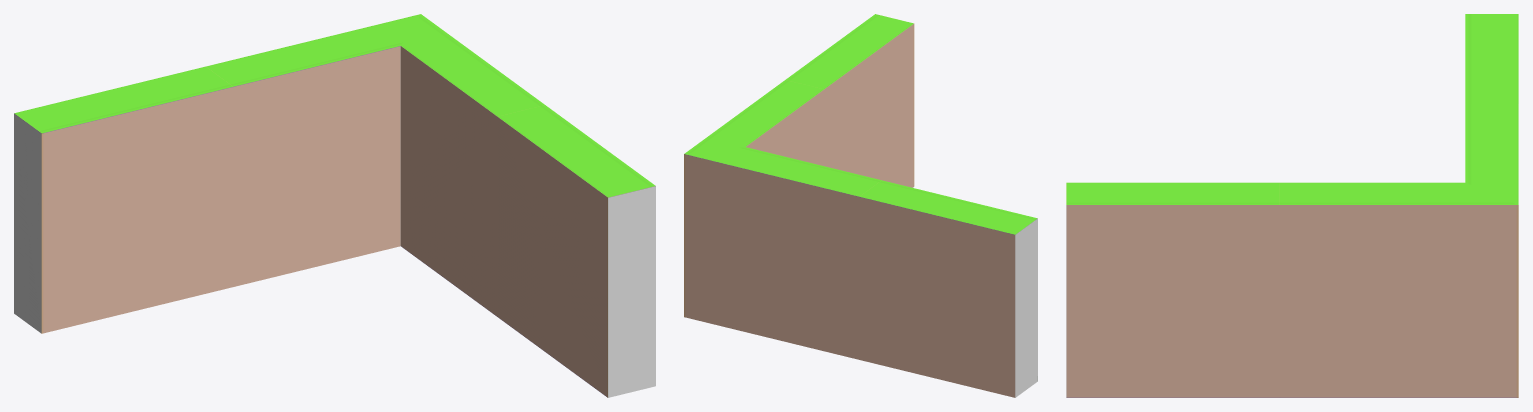
File: MK_MK_Wall_Corner_In_Half_B.fbx
The picture shows the model from 3 angles, left to right: view 1: azimuth 30°, elevation 25°; view 2: azimuth 150°, elevation 25°; view 3: azimuth 270°, elevation 25°; orthographic projection. The views are drawn at different scales.
Visible parts, largest first — view 1: MK_Wall_Corner_In_Half_B; view 2: MK_Wall_Corner_In_Half_B; view 3: MK_Wall_Corner_In_Half_B.
Boxes of the visible parts, x1,y1,x2,y2 form: MK_Wall_Corner_In_Half_B: (14, 14, 655, 397); MK_Wall_Corner_In_Half_B: (684, 14, 1037, 397); MK_Wall_Corner_In_Half_B: (1066, 14, 1518, 397).
Bounding box in the file's own units: 191 × 90 × 191.
1 material, 1 textured.
